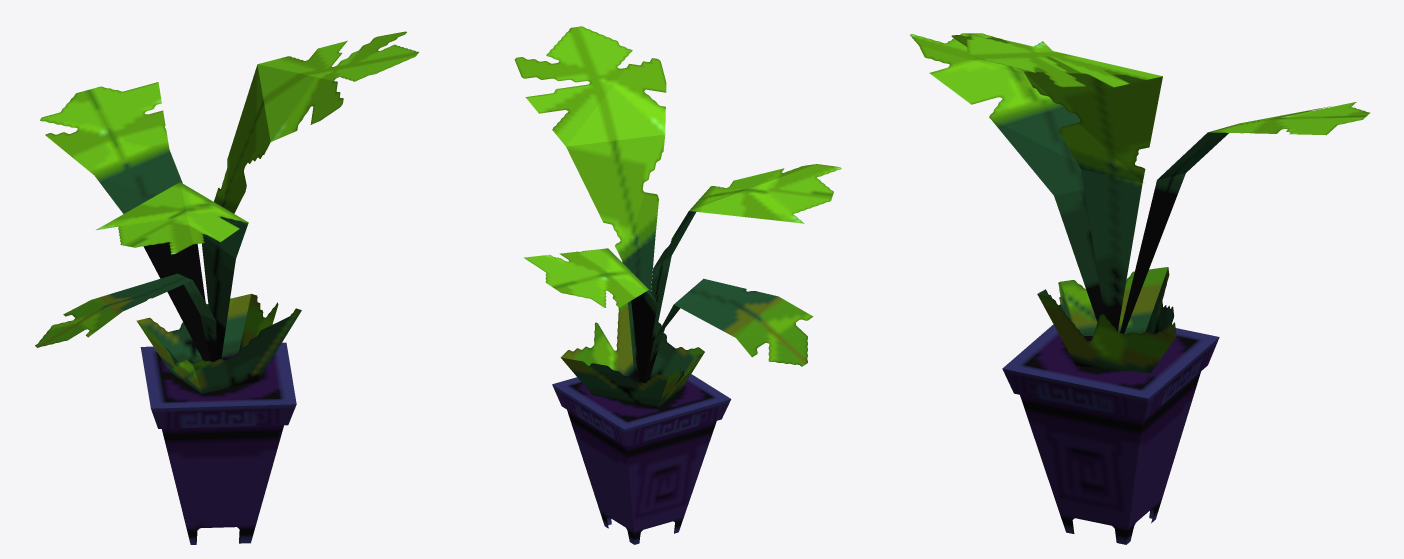
Rendered from palm_pot.obj.
3 views of the same model, side by side, from view 1: azimuth 30°, elevation 25°; view 2: azimuth 150°, elevation 25°; view 3: azimuth 270°, elevation 25° (orthographic). The views are drawn at different scales.
Visible parts, largest first — view 1: palm_pot; view 2: palm_pot; view 3: palm_pot.
Boxes of the visible parts, x1=… form: palm_pot: x1=35, y1=31, x2=418, y2=544; palm_pot: x1=514, y1=26, x2=841, y2=544; palm_pot: x1=910, y1=33, x2=1369, y2=544.
Bounding box in the file's own units: 1.76 × 2.04 × 1.73.
1 material, 1 textured.
